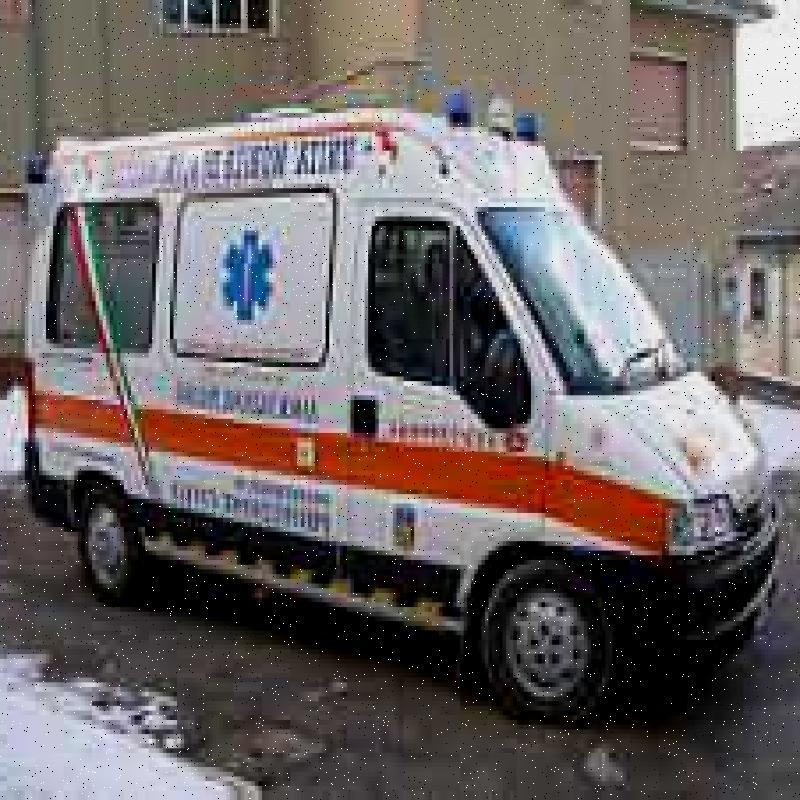AmbulanceSiren: (439, 87, 532, 146)
